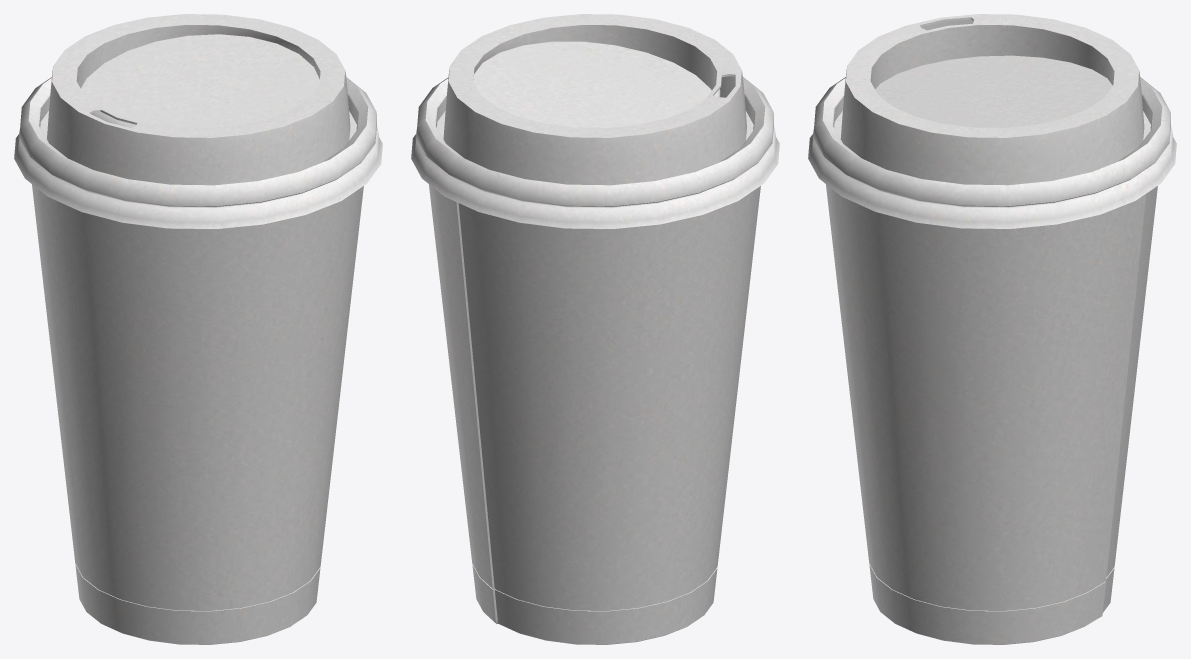
File: coffee-transformed.glb
3 views of the same model, side by side, from view 1: azimuth 30°, elevation 25°; view 2: azimuth 150°, elevation 25°; view 3: azimuth 270°, elevation 25° (orthographic).
Parts seen in each view (by area): view 1: coffee_cup_top_16oz; view 2: coffee_cup_top_16oz; view 3: coffee_cup_top_16oz.
Boxes of the visible parts, bbox=[...] form: coffee_cup_top_16oz: bbox=[14, 14, 382, 644]; coffee_cup_top_16oz: bbox=[411, 14, 779, 644]; coffee_cup_top_16oz: bbox=[808, 14, 1176, 644].
Size of the model in its own units: 0.9557 by 1.48 by 0.9557.
Materials: 1 (1 with a texture image).
